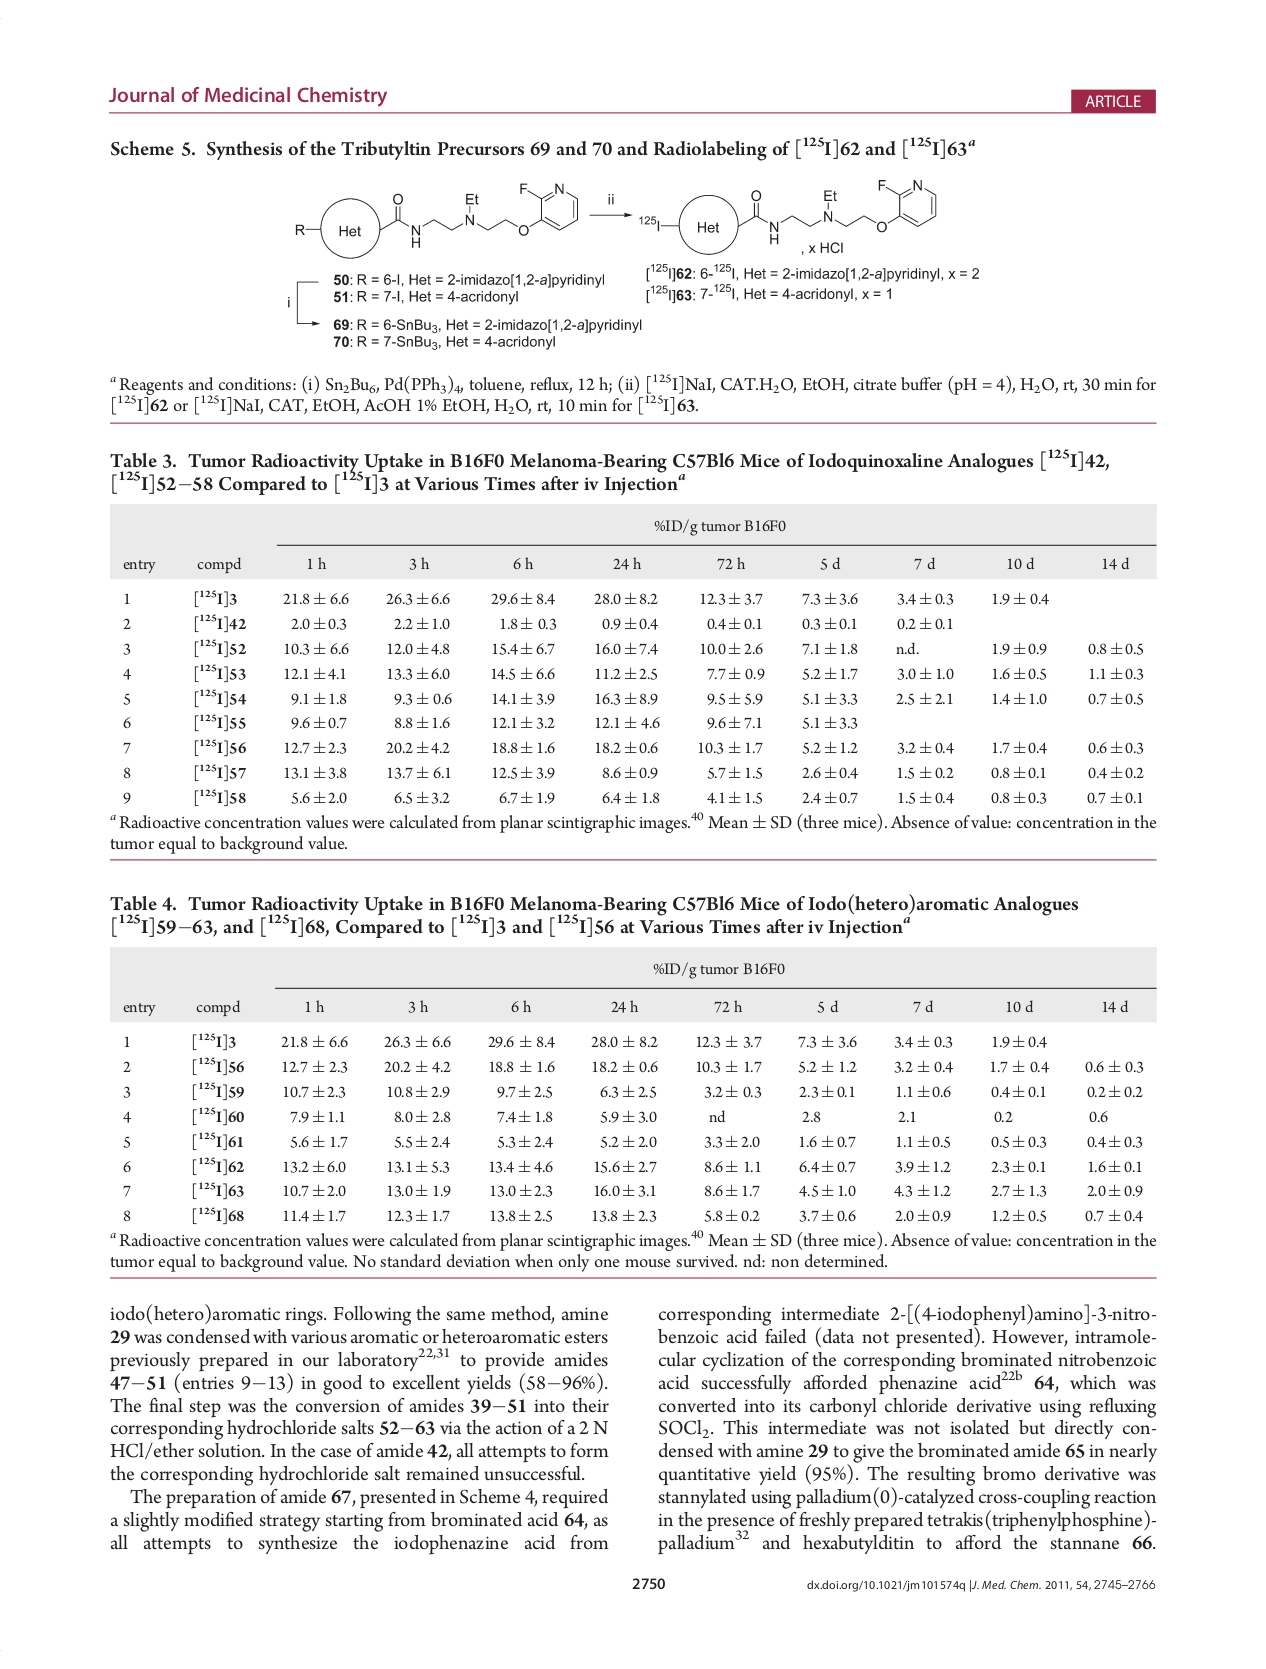exist_molecular: (293, 176, 582, 259), (652, 176, 942, 258)
